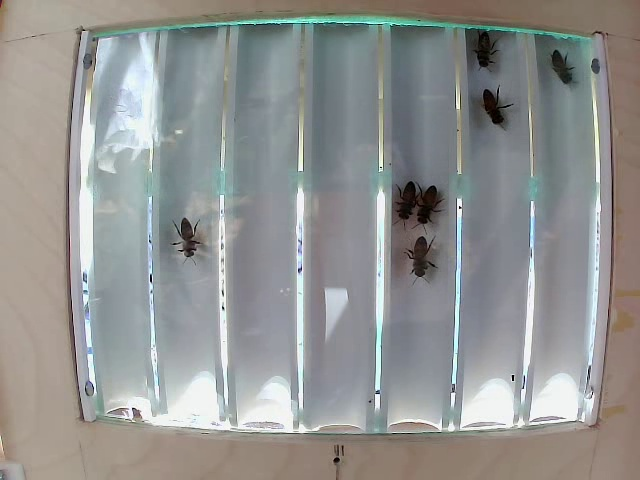bee: (539, 45, 589, 93), (406, 229, 444, 281), (173, 217, 212, 260), (476, 84, 512, 128), (398, 176, 422, 225), (473, 25, 499, 67), (421, 182, 439, 220)
